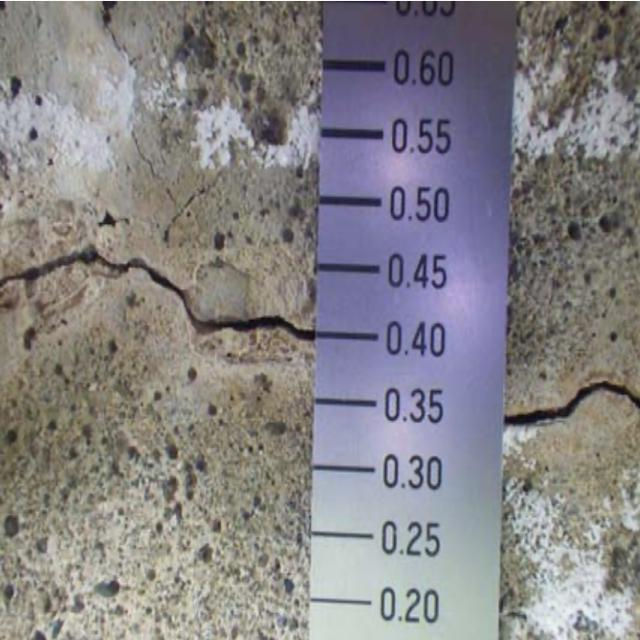crack: (10, 227, 317, 383), (501, 360, 640, 460)
